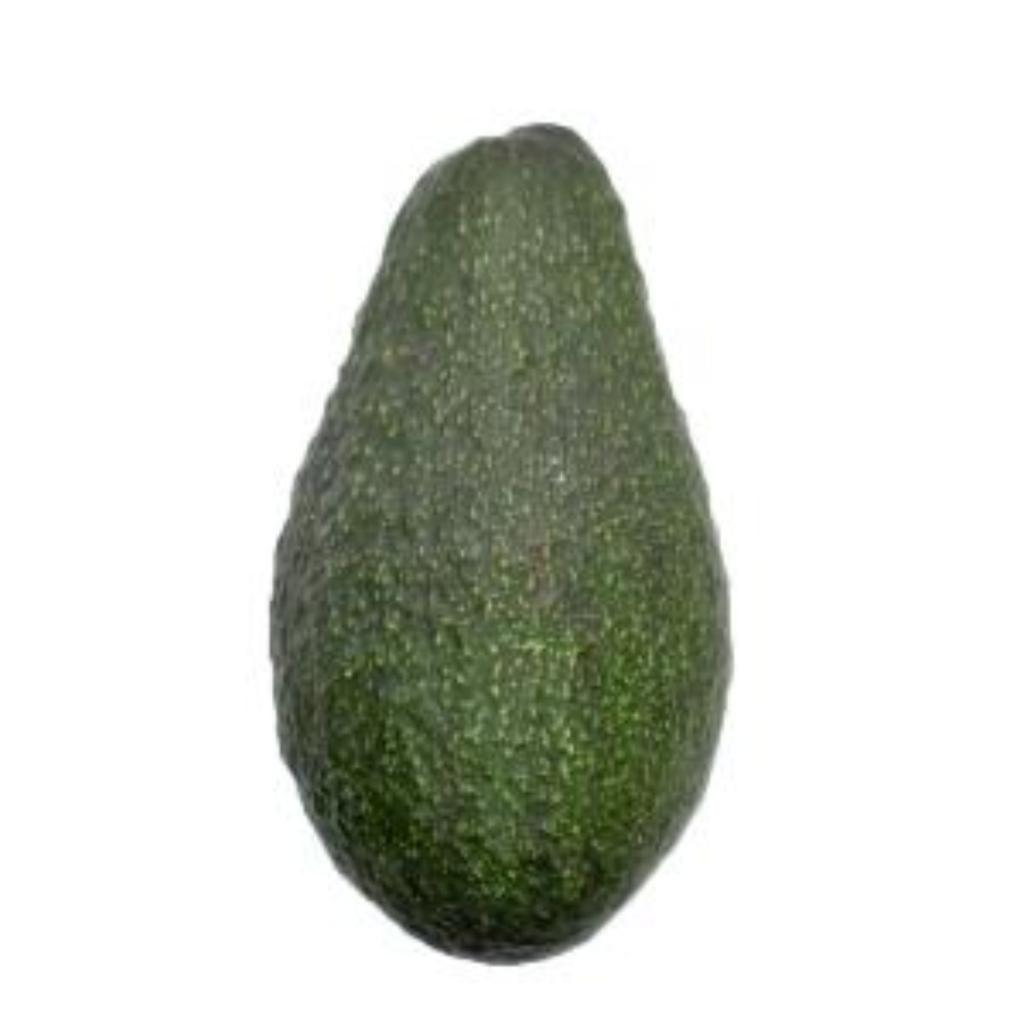cercospora_spot: (252, 106, 758, 972)
